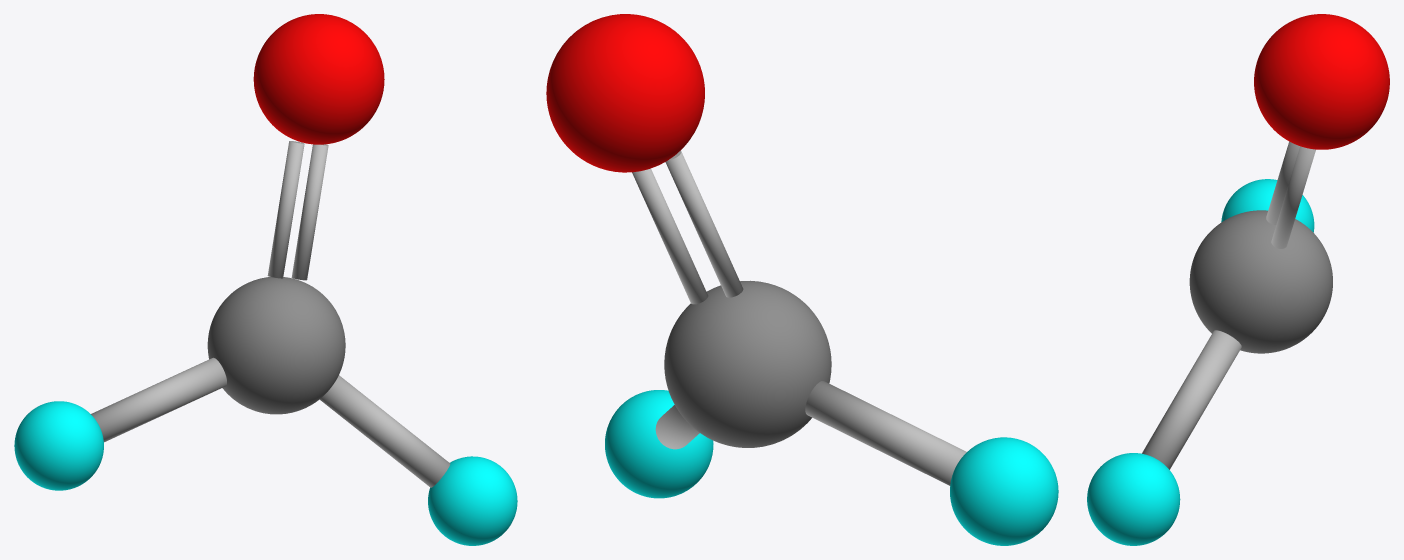
Rendered from formaldehyde.glb.
3 views of the same model, side by side, from view 1: azimuth 30°, elevation 25°; view 2: azimuth 150°, elevation 25°; view 3: azimuth 270°, elevation 25° (orthographic). The views are drawn at different scales.
Visible parts, largest first — view 1: CMAtom_0; view 2: CMAtom_0; view 3: CMAtom_0.
Part boxes in pixels (x1,y1,x2,y2): CMAtom_0: (14,14,517,545); CMAtom_0: (546,14,1058,545); CMAtom_0: (1087,14,1389,545).
Bounding box in the file's own units: 0.2199 × 0.232 × 0.1301.
